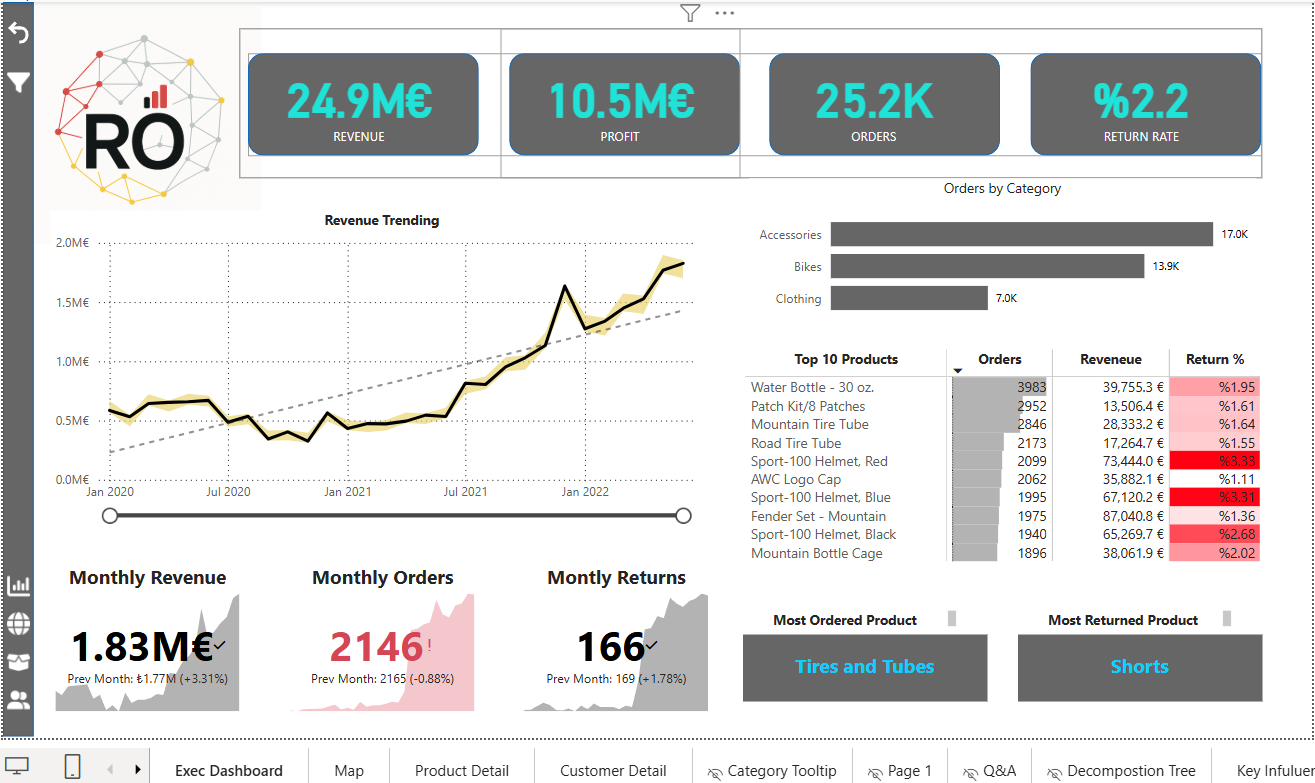

The dashboard page shown, as its layout file describes it:
{"tool":"powerbi","page":{"name":"Exec Dashboard","canvas":[1280,720],"ordinal":0},"visuals":[{"type":"image","title":"Logo","box":[15.7,0,241.4,241.4],"z":0},{"type":"card","fields":{"Values":["Measure Table.Total Reveneue"]},"box":[231.4,25.7,234.3,147.1],"z":0,"group":"g2"},{"type":"group","id":"g1","title":"KPI Group Background","box":[240,50,991.4,100],"z":0,"group":"g3"},{"type":"shape","title":"4.","box":[1005.7,50,225.7,100],"z":0,"group":"g1"},{"type":"actionButton","box":[0,583.7,30.6,50.1],"z":0,"group":"g4"},{"type":"shape","title":"Left Nav. Background","box":[0,0,30,718.6],"z":1000},{"type":"group","id":"g2","title":"KPI group","box":[231.4,25.7,1000,147.1],"z":1000,"group":"g3"},{"type":"card","fields":{"Values":["Measure Table.Total Profit"]},"box":[487.1,25.7,234.3,147.1],"z":1000,"group":"g2"},{"type":"shape","title":"3.","box":[750.5,50,225.7,100],"z":1000,"group":"g1"},{"type":"actionButton","box":[0,546.6,30.6,50.1],"z":1000,"group":"g4"},{"type":"group","id":"g3","title":"KPIs","box":[231.4,25.7,1000,147.1],"z":2000},{"type":"card","fields":{"Values":["Measure Table.Total Orders"]},"box":[735.7,25.7,234.3,147.1],"z":2000,"group":"g2"},{"type":"shape","title":"2.","box":[495.2,50,225.7,100],"z":2000,"group":"g1"},{"type":"actionButton","box":[0,620.8,30.6,50.1],"z":2000,"group":"g4"},{"type":"card","fields":{"Values":["Measure Table.Returned Rate"]},"box":[997.1,25.7,234.3,147.1],"z":3000,"group":"g2"},{"type":"shape","title":"1.","box":[240,50,225.7,100],"z":3000,"group":"g1"},{"type":"lineChart","title":"Revenue Trending","fields":{"Y":["Measure Table.Total Reveneue"],"Category":["Calendar Lookup.Start of Month"]},"box":[46.5,204.2,648.1,309.4],"z":3000},{"type":"actionButton","box":[0,657.9,30.6,50.1],"z":3000,"group":"g4"},{"type":"kpi","title":"Monthly Revenue","fields":{"Indicator":["Measure Table.Total Reveneue"],"TrendLine":["Calendar Lookup.Start of Month"],"Goal":["Measure Table.Previous Month Revenue"]},"box":[46.9,548.8,190,150],"z":4000},{"type":"kpi","title":"Montly Returns","fields":{"TrendLine":["Calendar Lookup.Start of Month"],"Goal":["Measure Table.Previous Month Returns"],"Indicator":["Measure Table.Total Returns"]},"box":[505,548.8,190,150],"z":5000},{"type":"kpi","title":"Monthly Orders","fields":{"TrendLine":["Calendar Lookup.Start of Month"],"Indicator":["Measure Table.Total Orders"],"Goal":["Measure Table.Previous Month Orders"]},"box":[275.9,548.8,190,150],"z":6000},{"type":"clusteredBarChart","title":"Orders by Category ","fields":{"Category":["Product Categories Lookup.CategoryName"],"Y":["Measure Table.Total Orders"]},"box":[730,172.4,495.2,148],"z":7000},{"type":"pivotTable","fields":{"Rows":["Product Lookup.ProductName"],"Values":["Measure Table.Total Orders","Measure Table.Total Reveneue","Measure Table.Returned Rate"]},"box":[721.5,335.1,531.9,229.9],"z":8000},{"type":"card","fields":{"Values":["Min(Product Subcategories Lookup.SubcategoryName)"]},"box":[723.4,618.5,238.9,65.4],"z":9000},{"type":"textbox","box":[748.4,590.2,189.2,27],"z":10000},{"type":"card","fields":{"Values":["Min(Product Subcategories Lookup.SubcategoryName)"]},"box":[992.9,618.5,238.9,65.4],"z":11000},{"type":"textbox","box":[1018,590.2,189.2,27],"z":12000},{"type":"actionButton","box":[0,0,30.6,58.7],"z":13000},{"type":"group","id":"g4","title":"Nav Buttons","box":[0,546.6,30.6,161.4],"z":14000},{"type":"actionButton","box":[0,58.7,30.6,40.4],"z":15000}]}

Visuals, with their boxes on the page's 1280x720 design canvas (x1, y1, x2, y2). These are canvas units, not pixel positions in the 1315x783 screenshot, which may show the page scaled, cropped or inside an application window:
"Logo" image: pyautogui.locateOnScreen(16, 0, 257, 241)
card - Measure Table.Total Reveneue: pyautogui.locateOnScreen(231, 26, 466, 173)
"KPI Group Background" group: pyautogui.locateOnScreen(240, 50, 1231, 150)
"4." shape: pyautogui.locateOnScreen(1006, 50, 1231, 150)
actionButton: pyautogui.locateOnScreen(0, 584, 31, 634)
"Left Nav. Background" shape: pyautogui.locateOnScreen(0, 0, 30, 719)
"KPI group" group: pyautogui.locateOnScreen(231, 26, 1231, 173)
card - Measure Table.Total Profit: pyautogui.locateOnScreen(487, 26, 721, 173)
"3." shape: pyautogui.locateOnScreen(750, 50, 976, 150)
actionButton: pyautogui.locateOnScreen(0, 547, 31, 597)
"KPIs" group: pyautogui.locateOnScreen(231, 26, 1231, 173)
card - Measure Table.Total Orders: pyautogui.locateOnScreen(736, 26, 970, 173)
"2." shape: pyautogui.locateOnScreen(495, 50, 721, 150)
actionButton: pyautogui.locateOnScreen(0, 621, 31, 671)
card - Measure Table.Returned Rate: pyautogui.locateOnScreen(997, 26, 1231, 173)
"1." shape: pyautogui.locateOnScreen(240, 50, 466, 150)
"Revenue Trending" lineChart: pyautogui.locateOnScreen(46, 204, 695, 514)
actionButton: pyautogui.locateOnScreen(0, 658, 31, 708)
"Monthly Revenue" kpi: pyautogui.locateOnScreen(47, 549, 237, 699)
"Montly Returns" kpi: pyautogui.locateOnScreen(505, 549, 695, 699)
"Monthly Orders" kpi: pyautogui.locateOnScreen(276, 549, 466, 699)
"Orders by Category " clusteredBarChart: pyautogui.locateOnScreen(730, 172, 1225, 320)
pivotTable - Product Lookup.ProductName x Measure Table.Total Orders: pyautogui.locateOnScreen(722, 335, 1253, 565)
card - Min(Product Subcategories Lookup.SubcategoryName): pyautogui.locateOnScreen(723, 618, 962, 684)
textbox: pyautogui.locateOnScreen(748, 590, 938, 617)
card - Min(Product Subcategories Lookup.SubcategoryName): pyautogui.locateOnScreen(993, 618, 1232, 684)
textbox: pyautogui.locateOnScreen(1018, 590, 1207, 617)
actionButton: pyautogui.locateOnScreen(0, 0, 31, 59)
"Nav Buttons" group: pyautogui.locateOnScreen(0, 547, 31, 708)
actionButton: pyautogui.locateOnScreen(0, 59, 31, 99)
